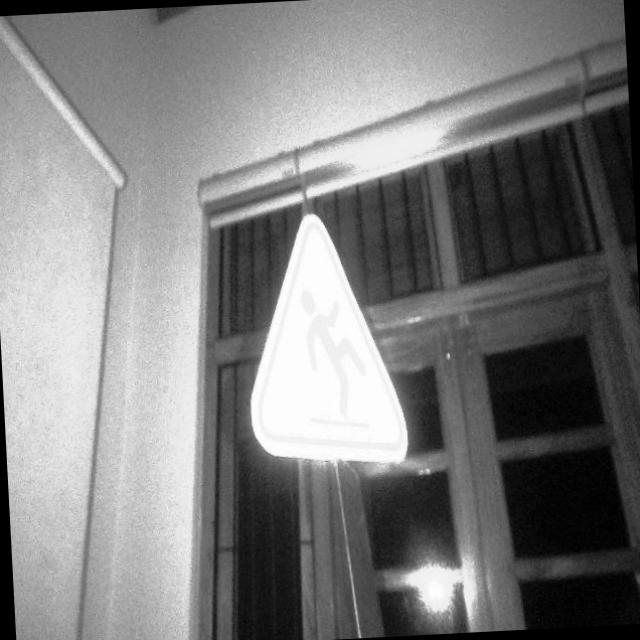Sign: (239, 207, 412, 472)
